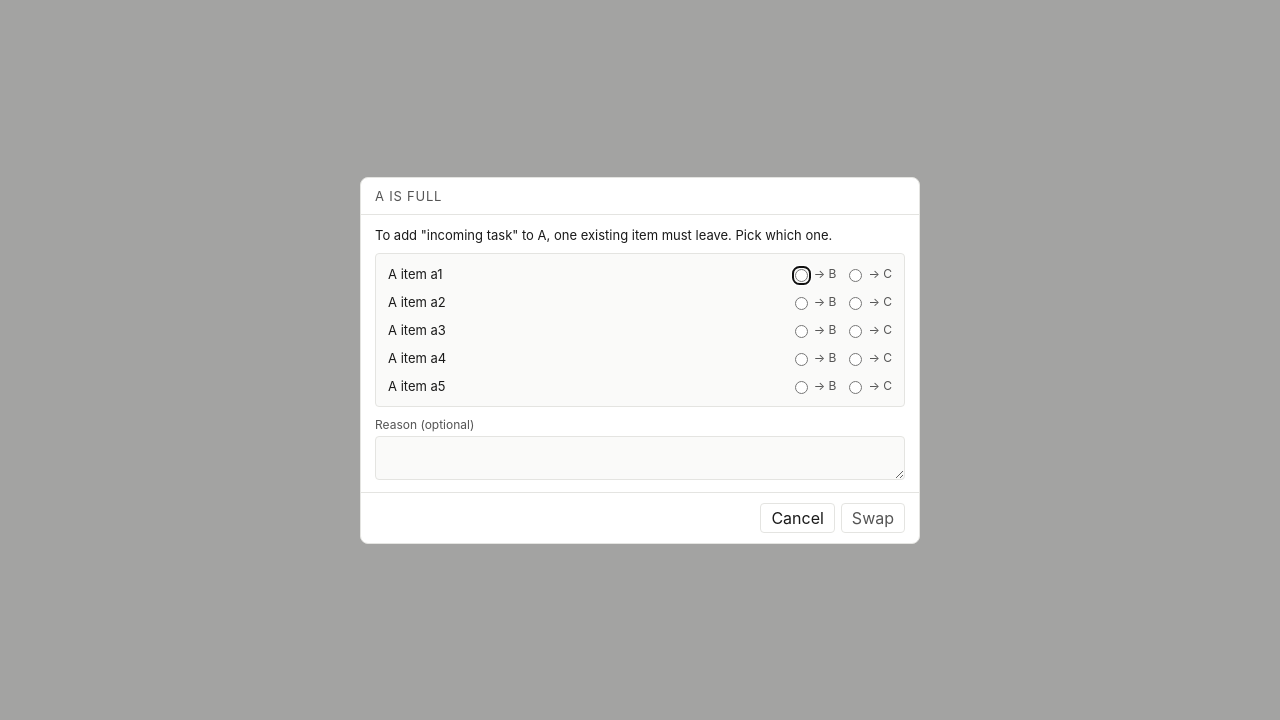
Test: SwapModal › enables Swap once any radio is selected
Click the radio button labelled "→ B" in the row of "A item a1" at (801, 275), box [795, 268, 808, 282]
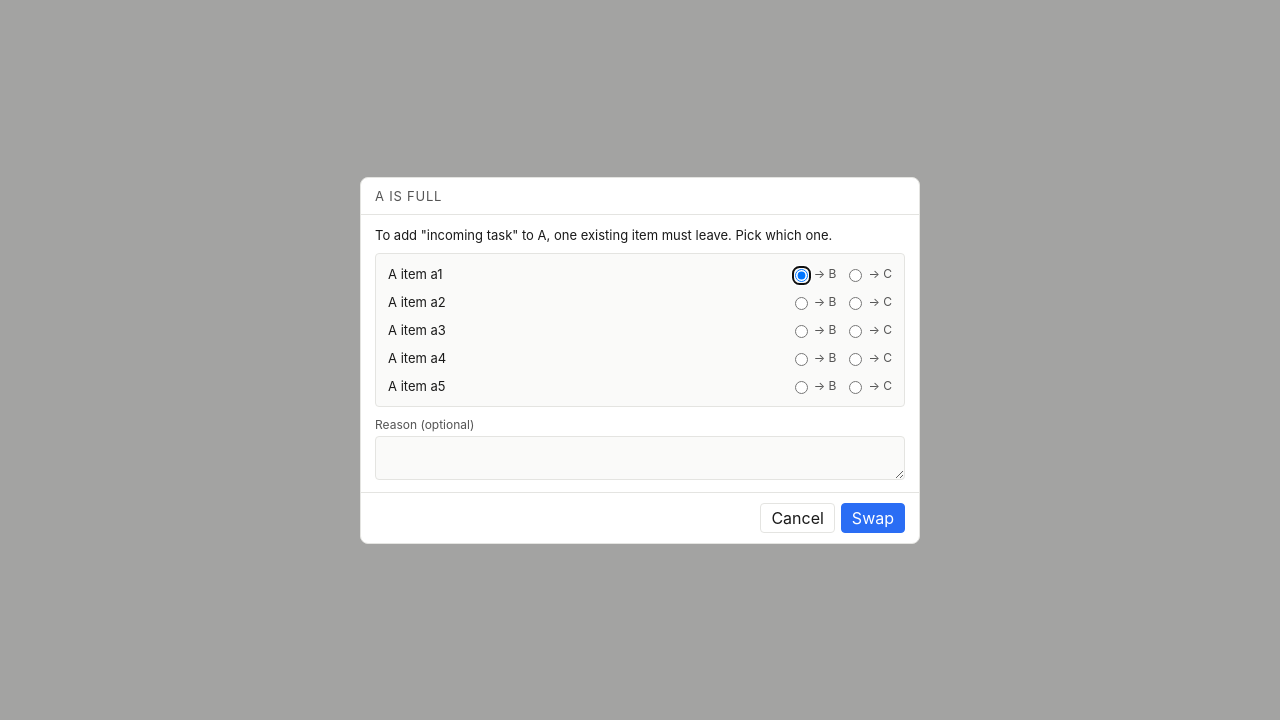
expect the button "Swap" is enabled: met, box [841, 502, 905, 532]
